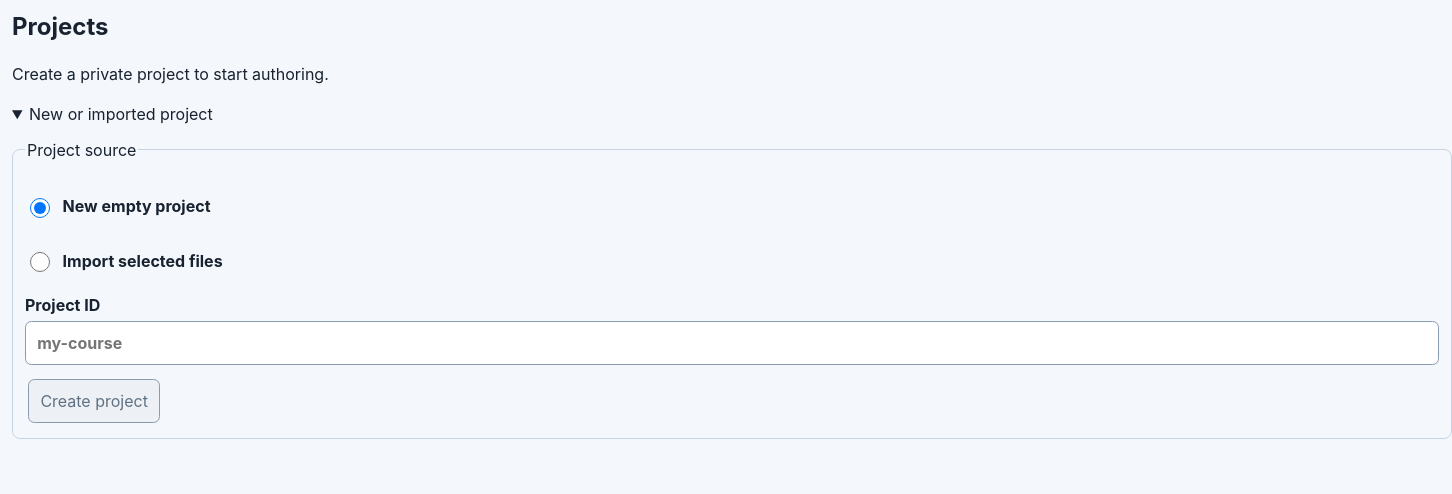
Scenario: creates an empty project only on direct action
Type "new-course" into the field labelled "Project ID" at (732,343), box [25,321,1439,365]
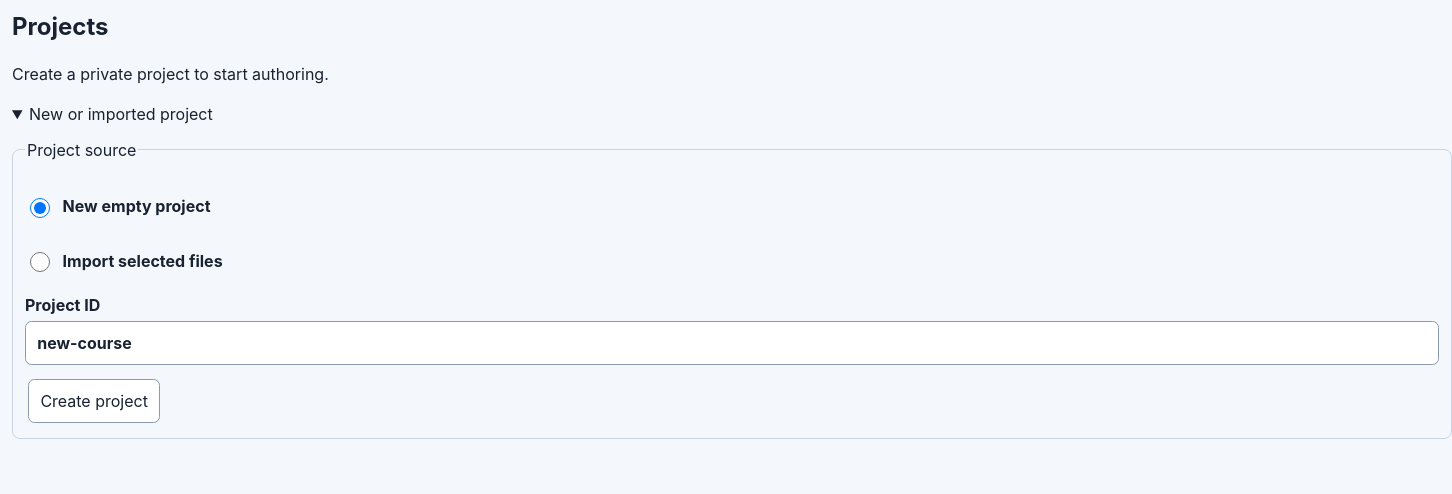
Click the button "Create project" at (94,401), box [28,379,160,423]
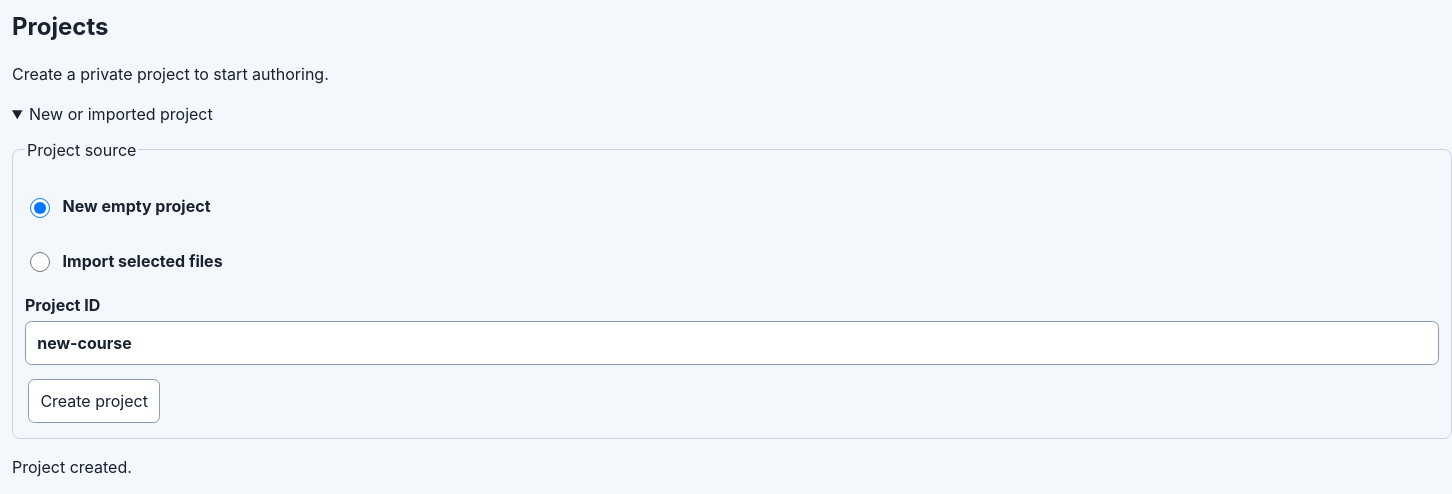
expect the text "Project created." is shown: met, box [12,457,132,477]
